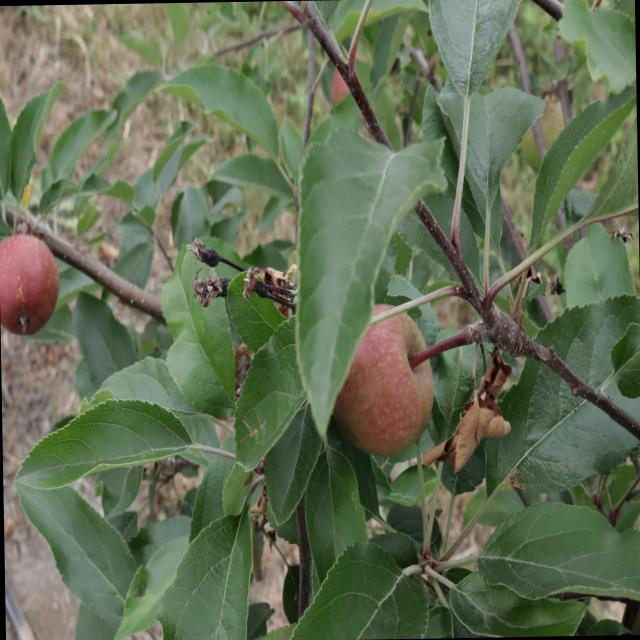-FireBlight-: (453, 327, 514, 460)
